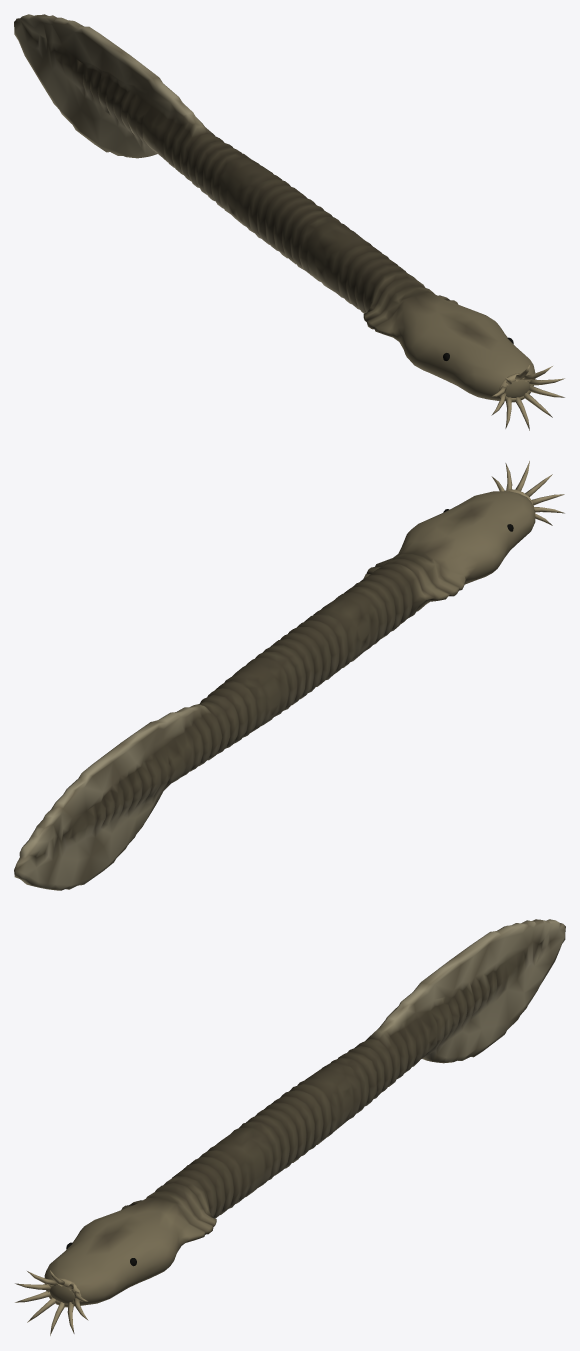
The model's file is PalaeospondylusGunni.fbx.
3 renders of one model, top to bottom at view 1: azimuth 30°, elevation 25°; view 2: azimuth 150°, elevation 25°; view 3: azimuth 330°, elevation 25°, orthographic.
Visible parts, largest first — view 1: PalaeospondylusGunni; view 2: PalaeospondylusGunni; view 3: PalaeospondylusGunni.
Part boxes in pixels (x1,y1,x2,y2): PalaeospondylusGunni: (14, 14, 564, 430); PalaeospondylusGunni: (14, 461, 564, 890); PalaeospondylusGunni: (15, 919, 565, 1335).
Size of the model in its own units: 0.2059 by 0.2385 by 2.02.
